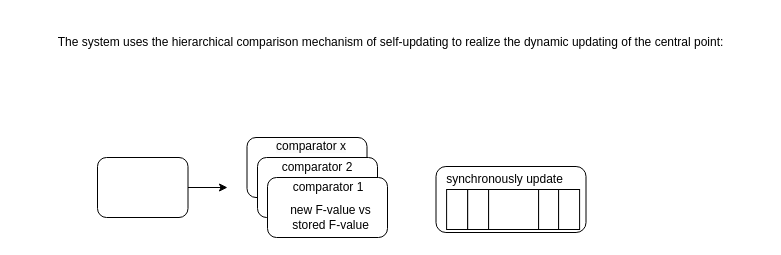
The diagram is 781 pixels wide and 255 high, and some of its shapes have lost their labels. Here are the shapes that lost their labels. From the top down, the box of each, then its label:
(96, 156, 188, 218): New F-value
(488, 188, 539, 230): new F-values+ Three-dimensional coordinate
